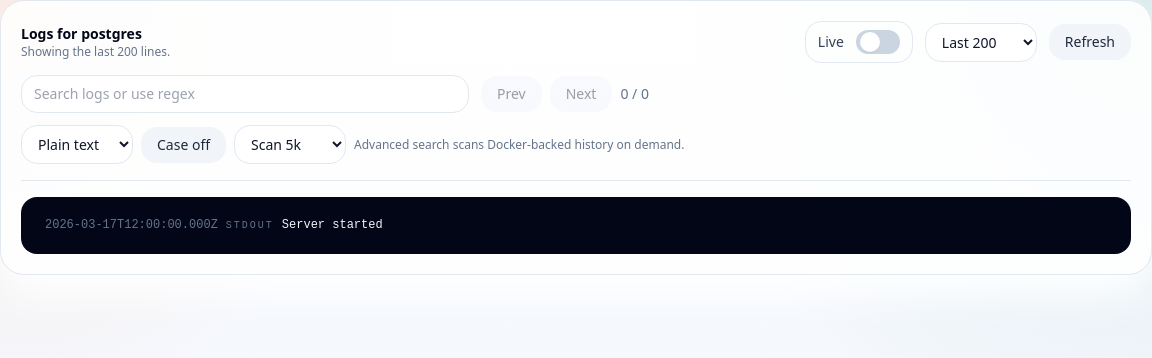
Test: ContainerLogsPanel › loads advanced search results and navigates between matches
The width and height of the screenshot is (1152, 358).
Expected: the text "Server started" is shown, [282,218,383,232]
In the field named "Search logs for postgres": (245, 94) [21,75,469,113], type "error"
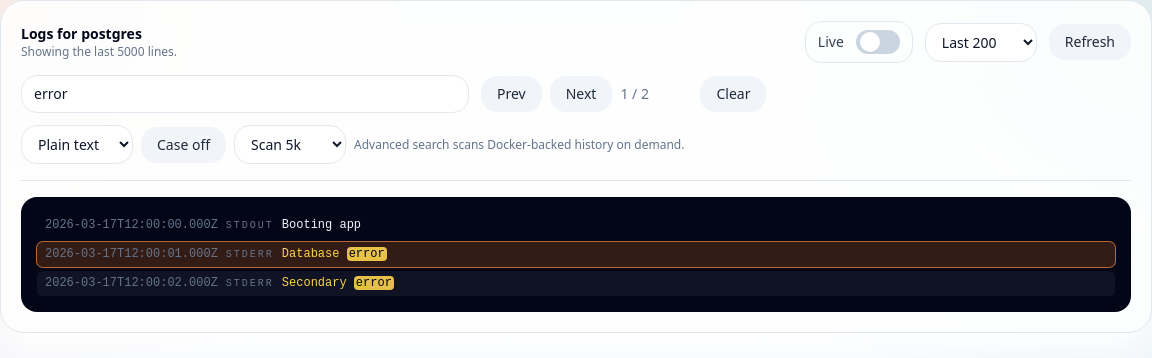
Result: the text "1 / 2" is shown at [620,84,649,103]
Click the button "Next": (581, 94) [550,76,612,112]
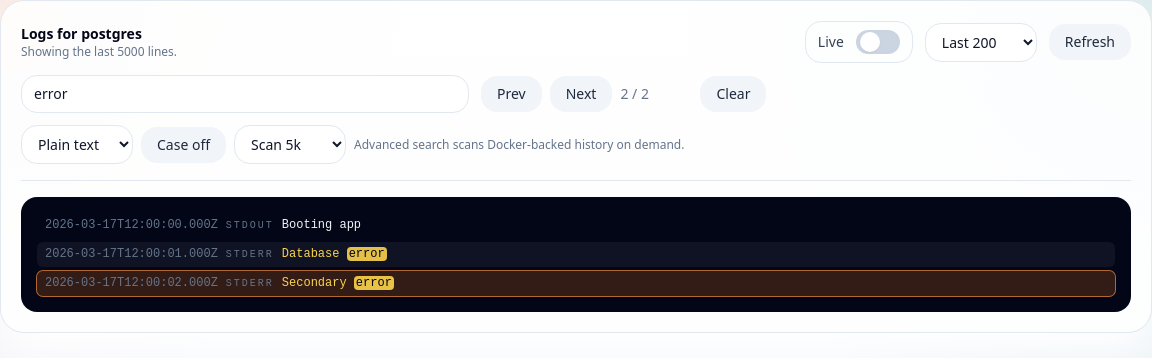
Result: the text "2 / 2" is shown at [620,84,649,103]
